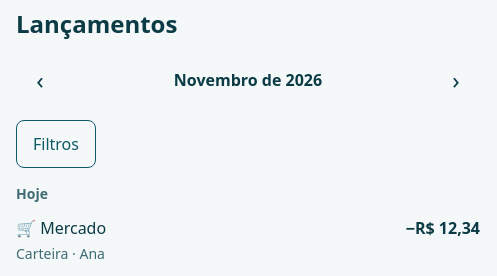
Test: TransactionsPage, viewing and organizing › navigatesMonths
The image size is (497, 276).
Expected: the text "🛒 Mercado" is shown, [16,216,106,240]
Expected: the text "Novembro de 2026" is shown, [174,68,322,92]
Click the button named "Mês anterior" at (40, 80), box [16,56,64,104]
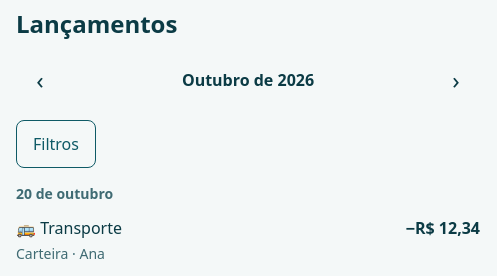
Expected: the text "🚌 Transporte" is shown, [16,216,122,240]
Expected: the button "🛒 Mercado" is gone
Expected: the text "Outubro de 2026" is shown, [182,68,314,92]
